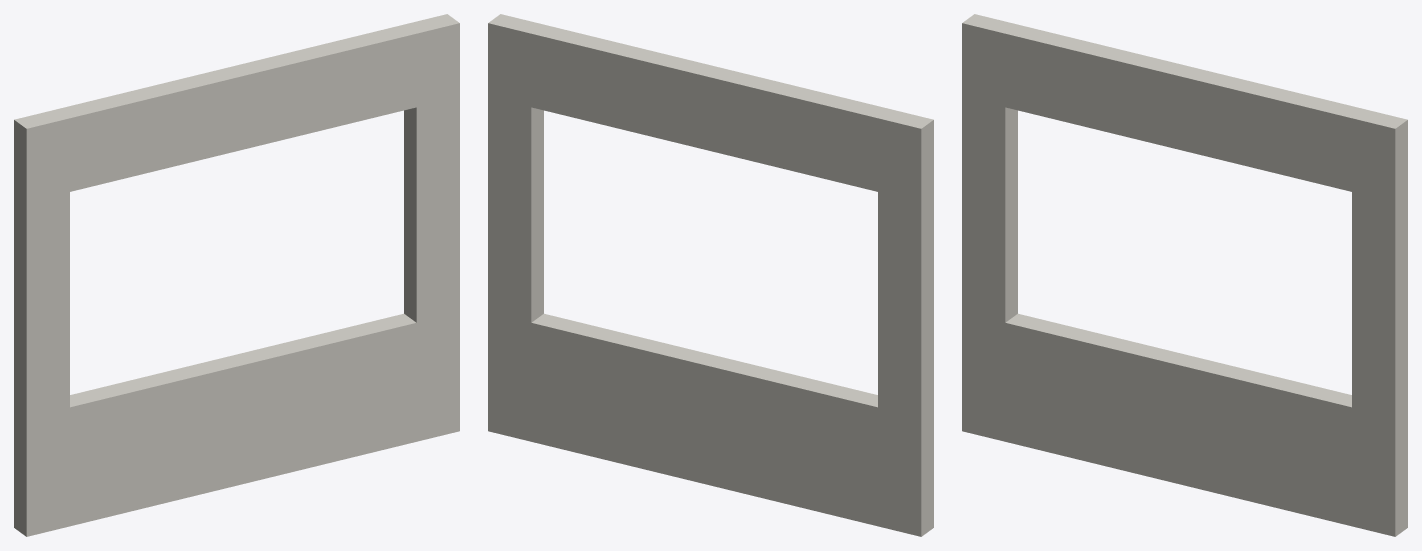
File: OA_Wall_Window_4m.fbx
The picture shows the model from 3 angles, left to right: view 1: azimuth 30°, elevation 25°; view 2: azimuth 150°, elevation 25°; view 3: azimuth 330°, elevation 25°; orthographic projection.
Visible parts, largest first — view 1: OA_Wall_Window_4m; view 2: OA_Wall_Window_4m; view 3: OA_Wall_Window_4m.
Part boxes in pixels (x1,y1,x2,y2): OA_Wall_Window_4m: (14,14,459,536); OA_Wall_Window_4m: (488,14,933,536); OA_Wall_Window_4m: (962,14,1407,536).
Size of the model in its own units: 4 by 3.6 by 0.2.
Materials: 1 (1 with a texture image).
